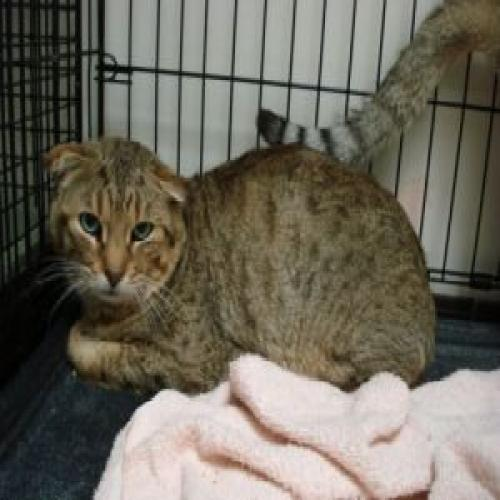bengal: (37, 132, 200, 318)
